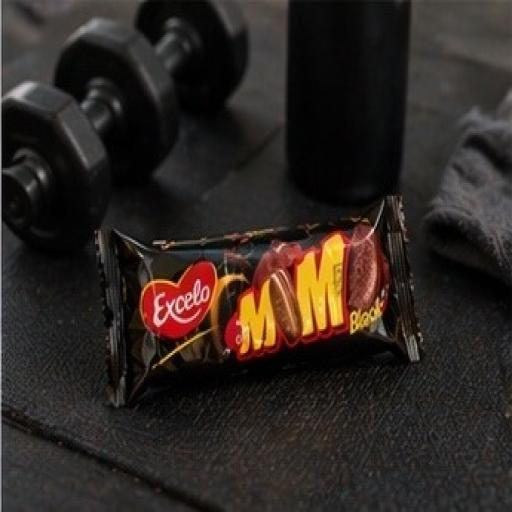MOMO: (64, 186, 434, 402)
